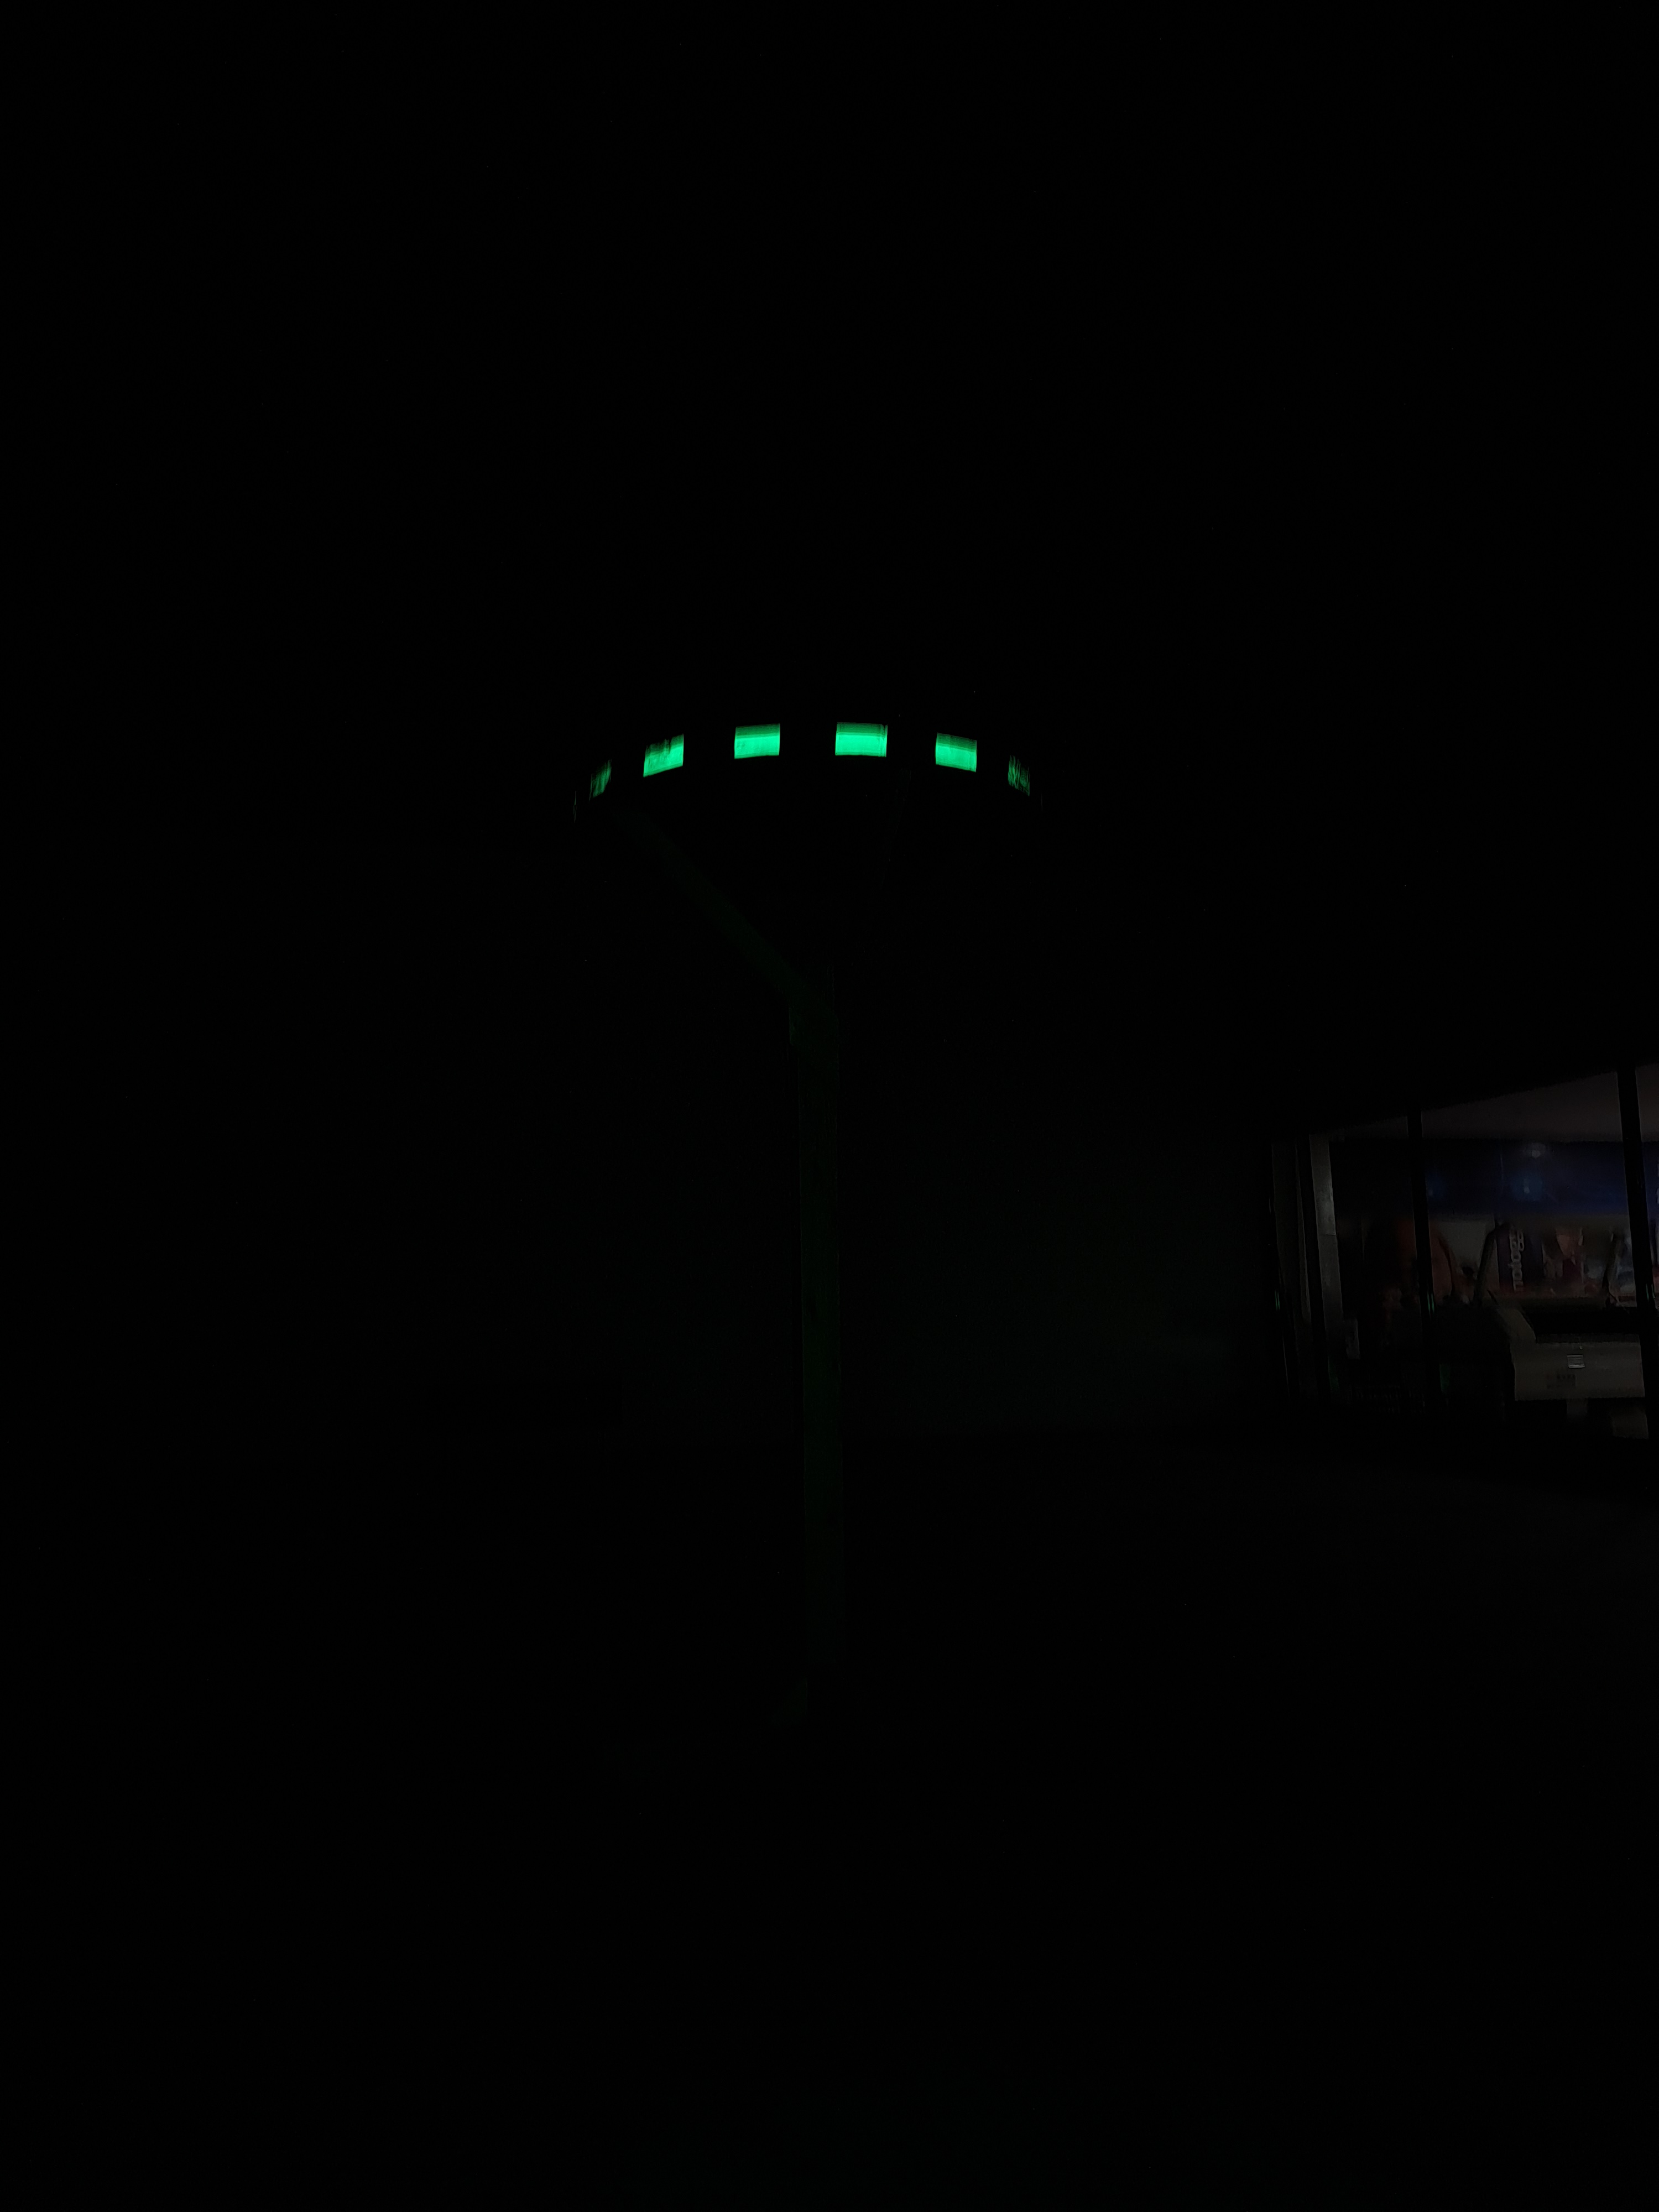hoop: (547, 723, 1053, 820)
